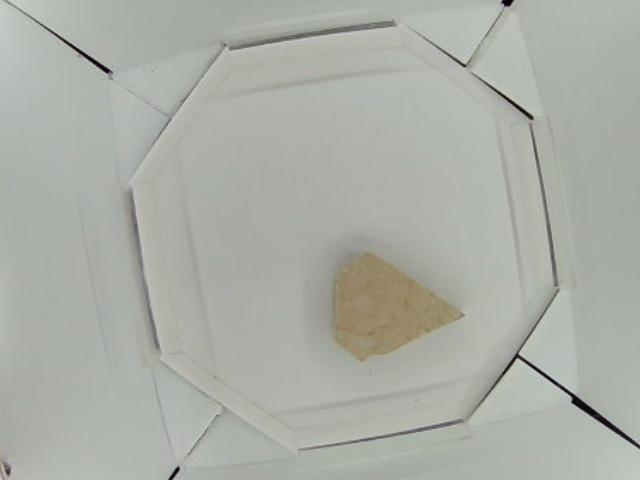China: (332, 251, 468, 367)
